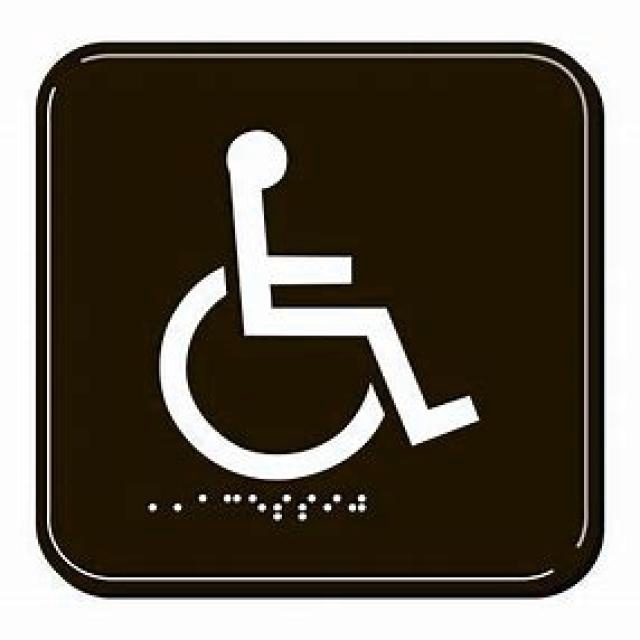ISA: (154, 129, 484, 483)
